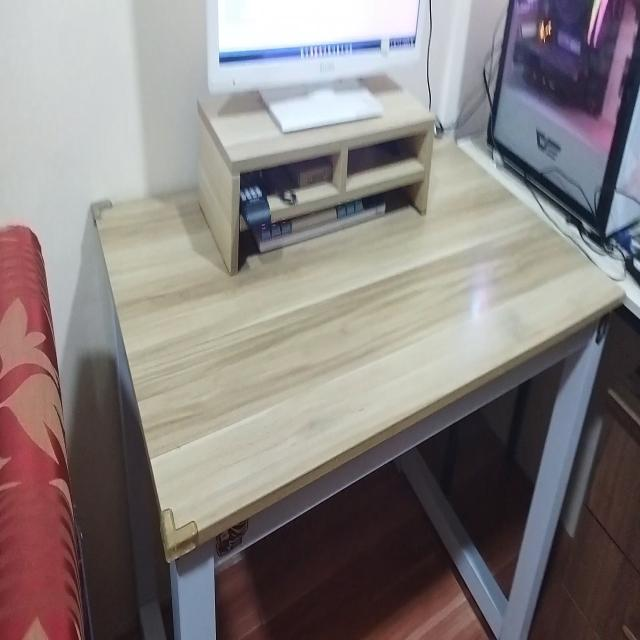table: (87, 123, 626, 640)
